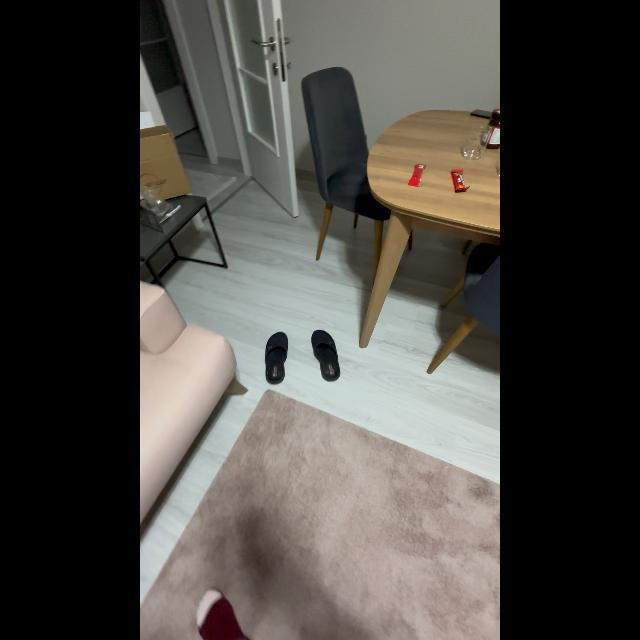slipper: (303, 324, 349, 388), (262, 321, 298, 389)
